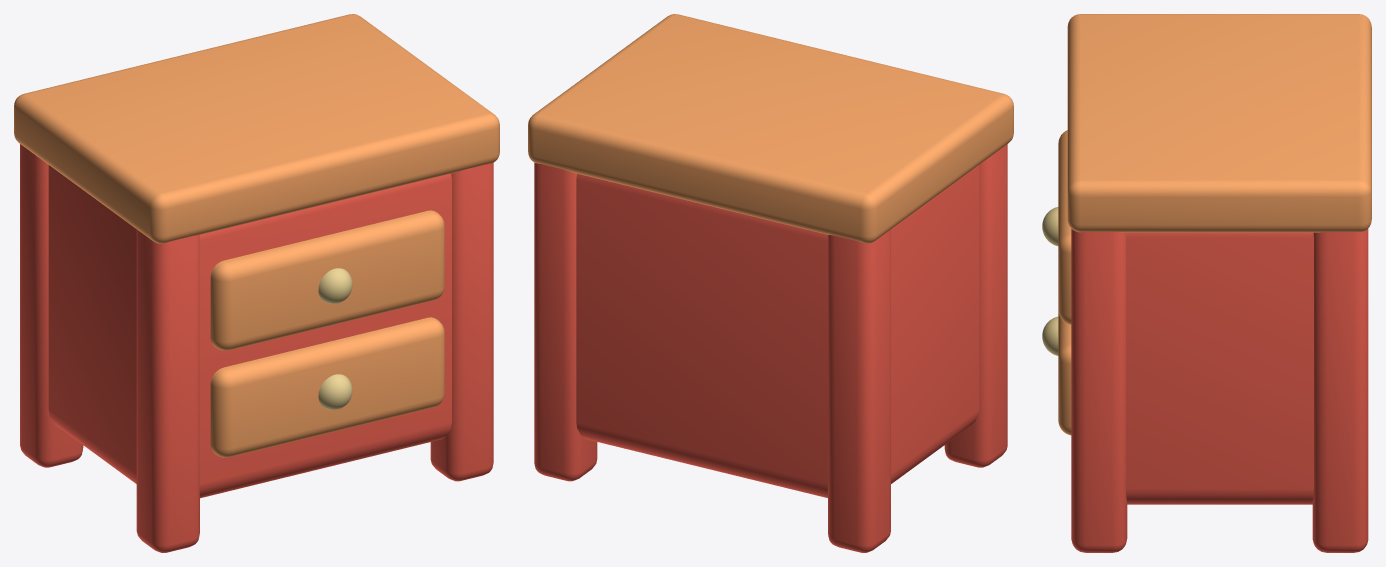
File: drawer.glb
3 renders of one model, left to right at view 1: azimuth 30°, elevation 25°; view 2: azimuth 150°, elevation 25°; view 3: azimuth 270°, elevation 25°, orthographic. The views are drawn at different scales.
Visible parts, largest first — view 1: DRAWER; view 2: DRAWER; view 3: DRAWER.
Part boxes in pixels (box(x1,y1,x2,y2)): DRAWER: box(14, 14, 499, 552); DRAWER: box(528, 14, 1013, 552); DRAWER: box(1042, 14, 1371, 552).
Size of the model in its own units: 1.9 by 1.88 by 1.5.
